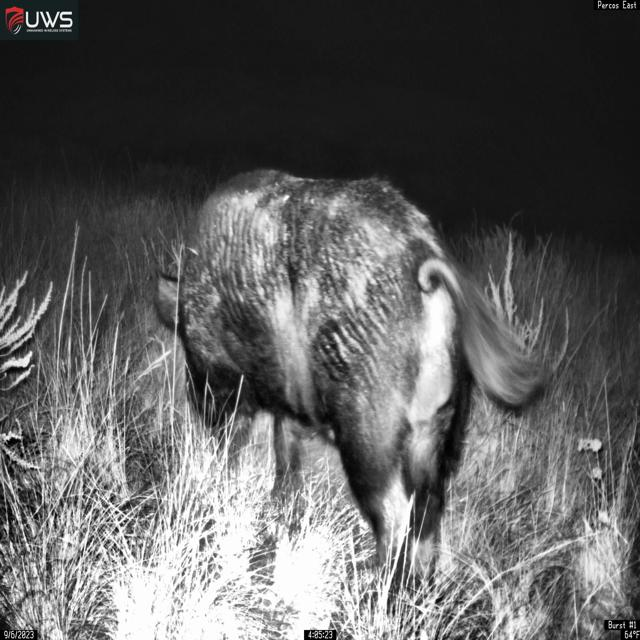pig: (152, 167, 547, 603)
